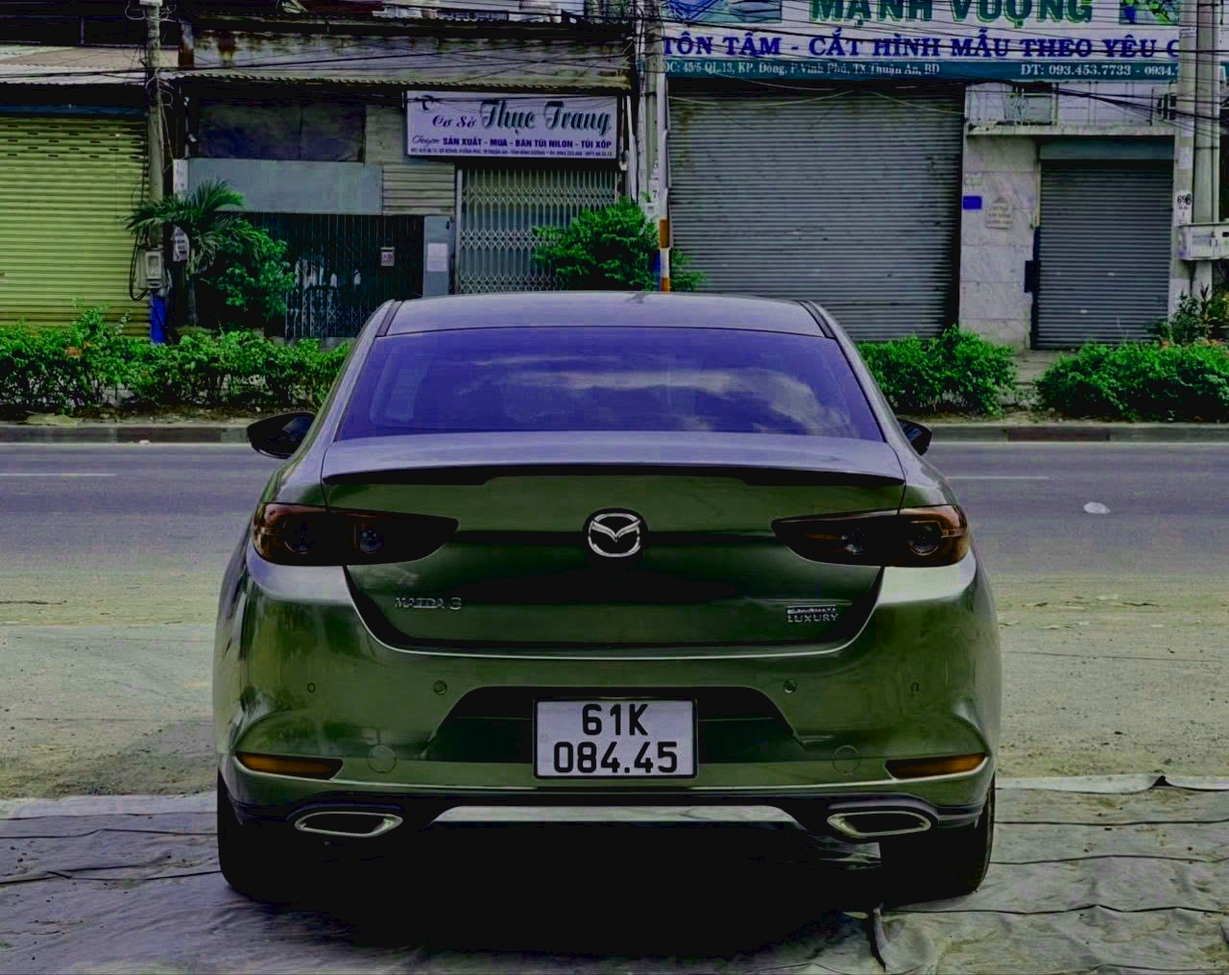Bien-so: (577, 680, 747, 769)
